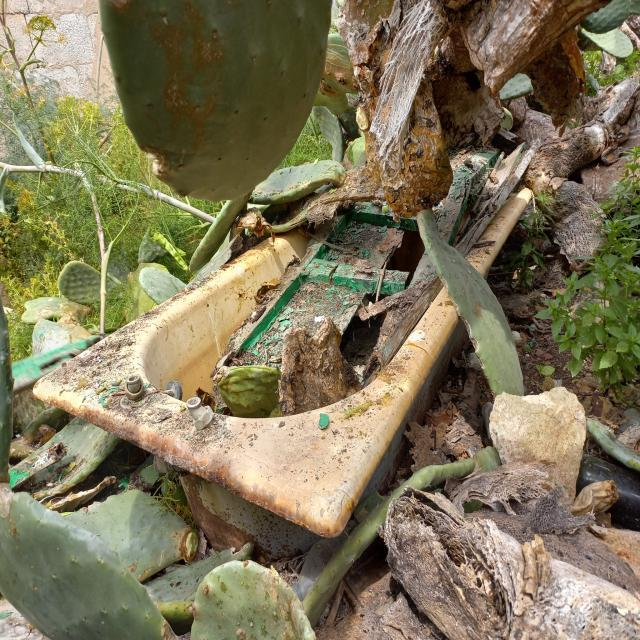Bottle: (576, 453, 640, 531)
Other litter: (29, 135, 545, 566)
